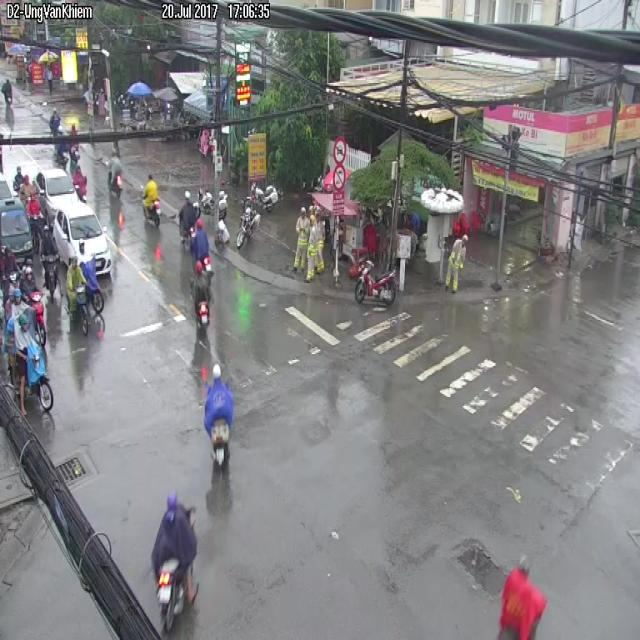car: (151, 493, 198, 631), (355, 259, 397, 305)
traffic-light: (46, 190, 115, 277)
